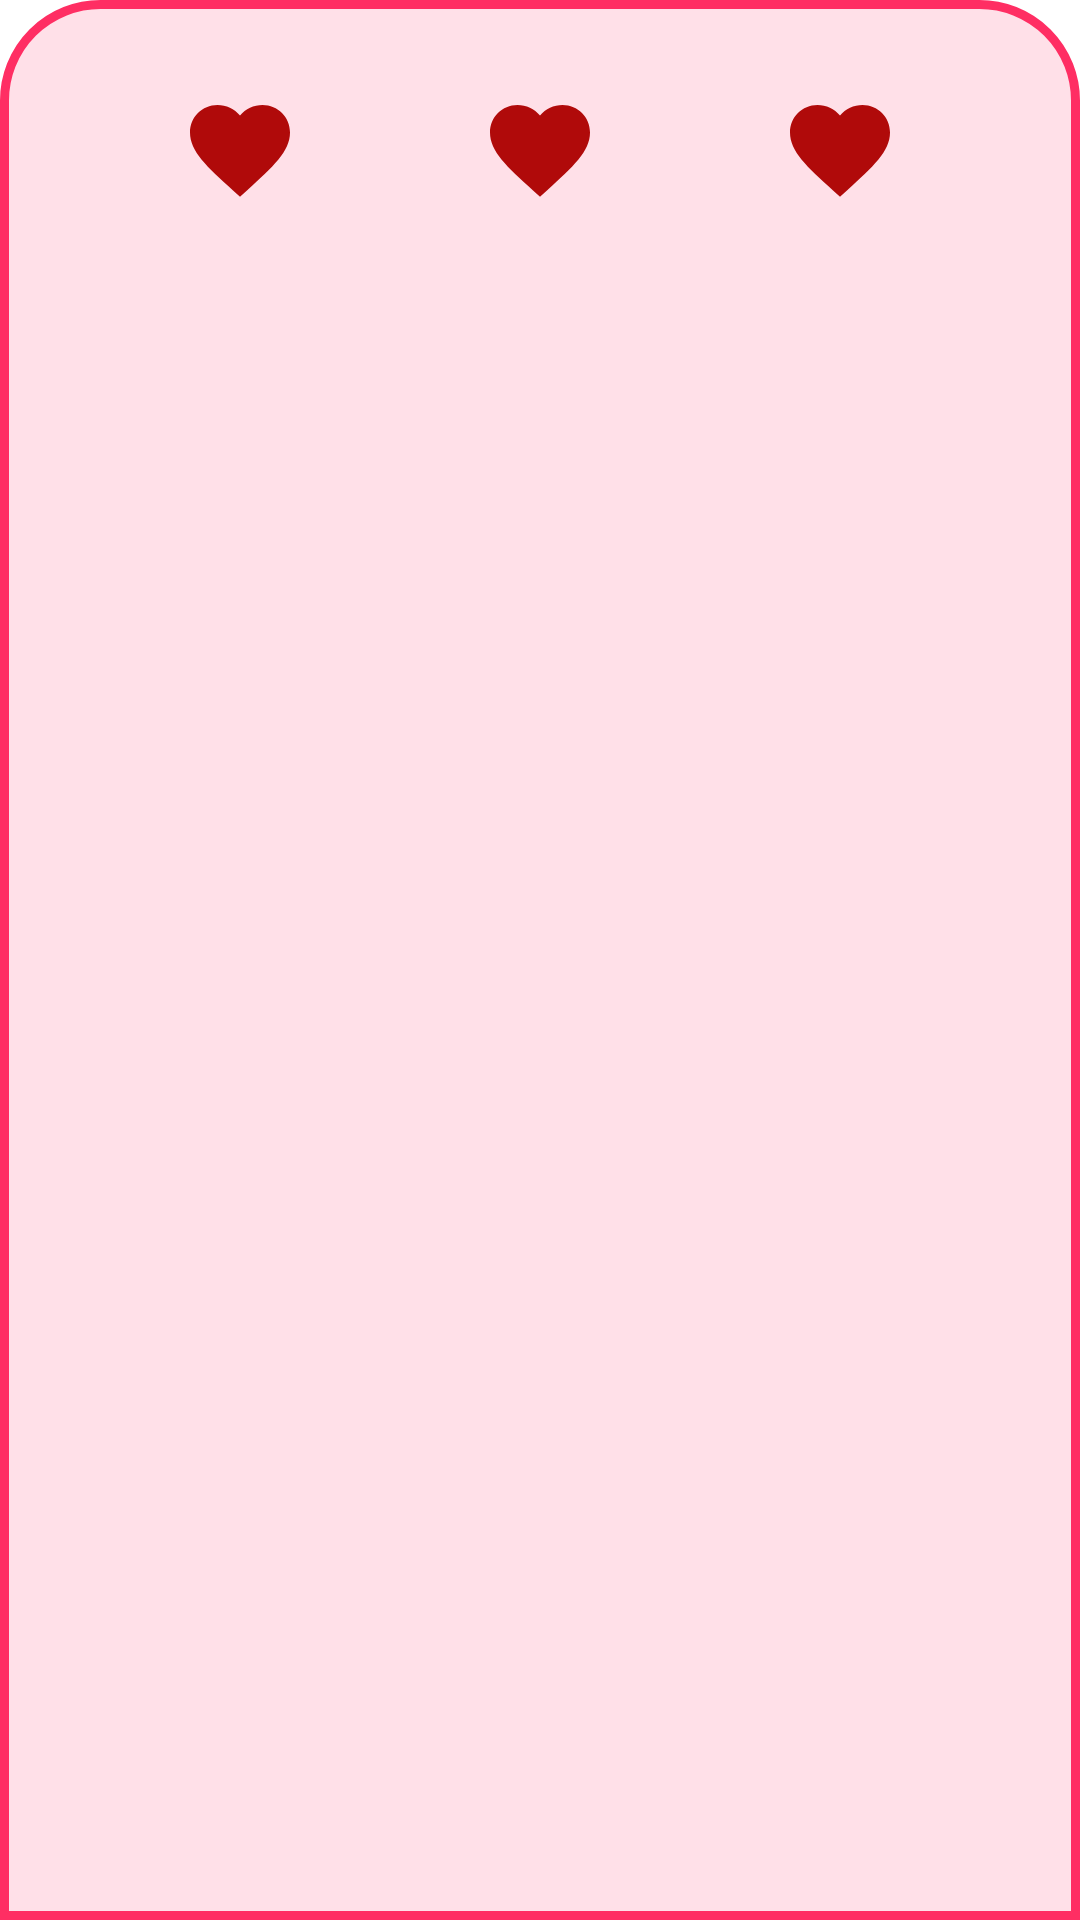

Named icons in this screenshot (1080px x 1920px) and their bounding boxes, (x1=x1, y1=y1, x2=x2, y2=y2):
heart: (x1=190, y1=105, x2=290, y2=197), (x1=490, y1=105, x2=590, y2=197), (x1=790, y1=105, x2=890, y2=197)
